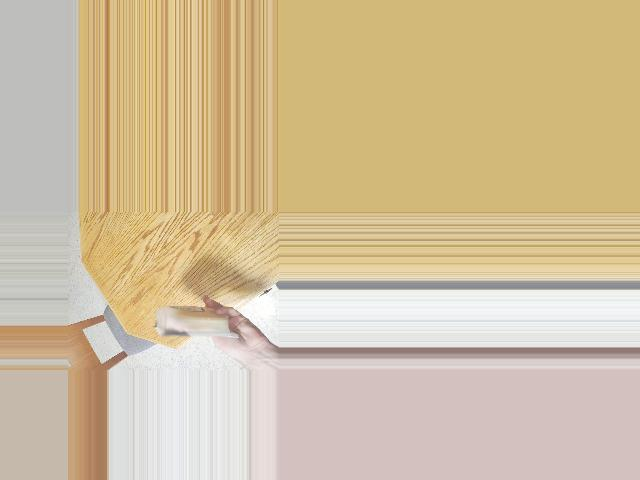cheese: (160, 303, 233, 353)
